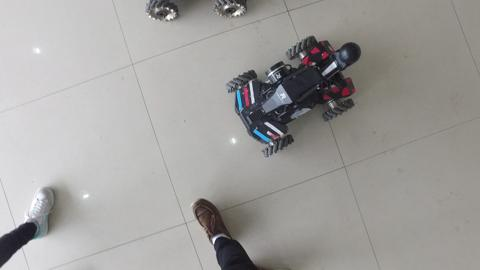chariot: (218, 30, 366, 160)
